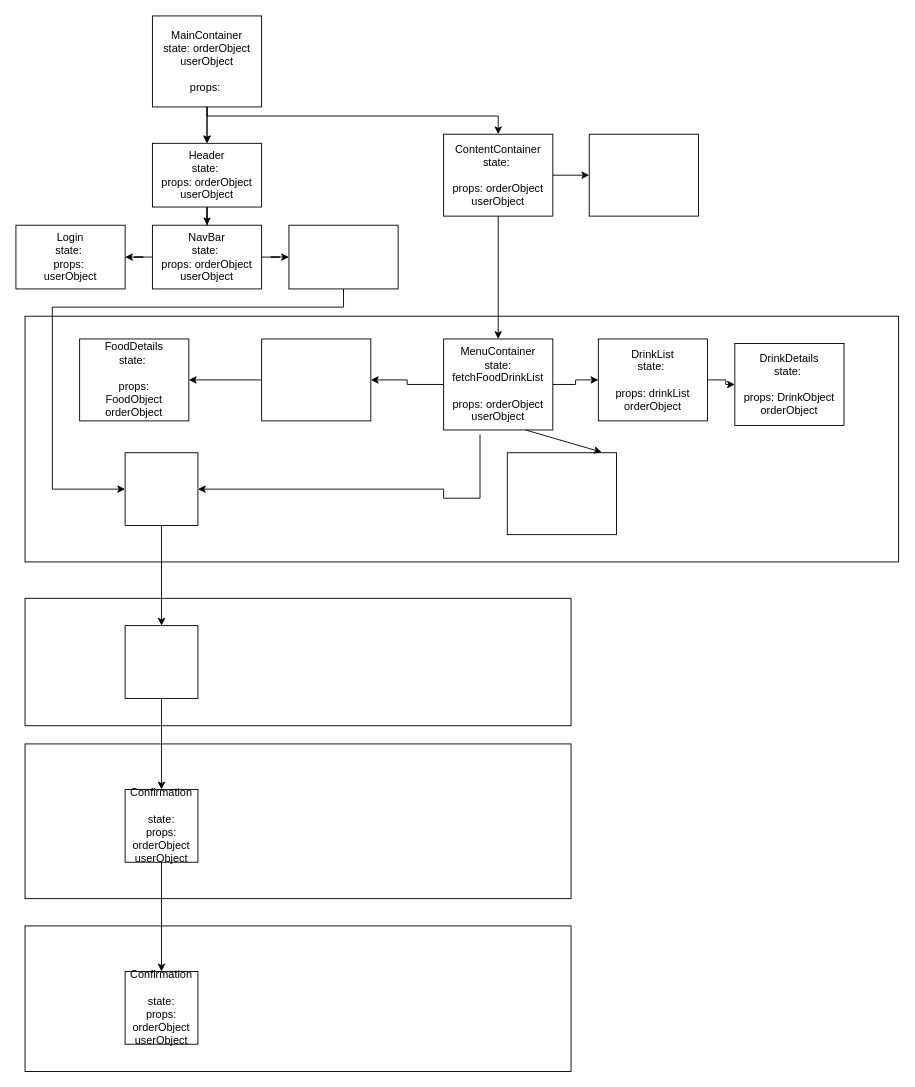
This 915x1087 diagram has some shape labels left out. Here are the shapes that lost their labels. From the top down, the centre of each, then its label:
(643,174): AccountDetails state: props: userObject
(343,256): Basket state: props: orderObject userObject
(316,379): Foodlist state: props: FoodList orderObject
(161,489): ViewBasket state: props: orderObject userObject
(561,493): InOut state: props: orderObject
(161,661): Checkout state: props: orderObject userObject
